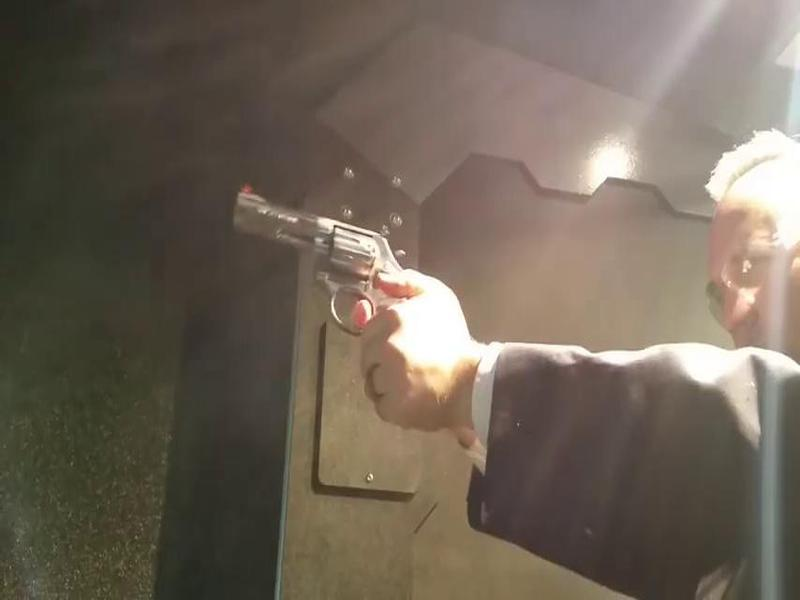Revolver: (212, 169, 436, 362)
